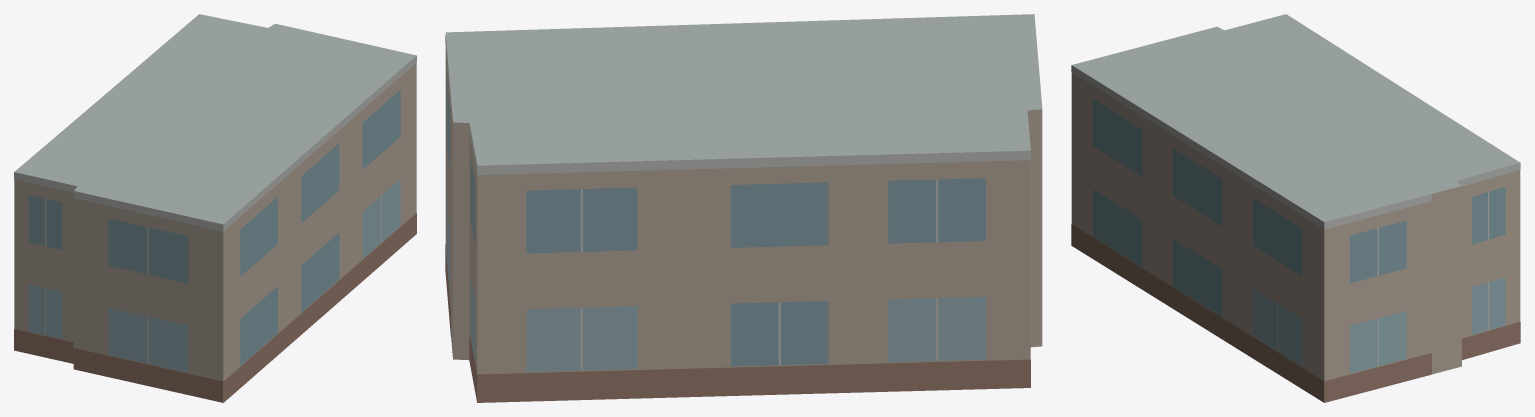
The model's file is survey-upis-33019528.glb.
3 renders of one model, left to right at view 1: azimuth 30°, elevation 25°; view 2: azimuth 150°, elevation 25°; view 3: azimuth 270°, elevation 25°, orthographic. The views are drawn at different scales.
Parts seen in each view (by area): view 1: survey-upis-33019528.tmp; view 2: survey-upis-33019528.tmp; view 3: survey-upis-33019528.tmp.
Boxes of the visible parts, x1,y1,x2,y2 form: survey-upis-33019528.tmp: (14,14,416,402); survey-upis-33019528.tmp: (445,14,1042,402); survey-upis-33019528.tmp: (1071,14,1520,402).
Bounding box in the file's own units: 15.09 × 6.1 × 13.75.
